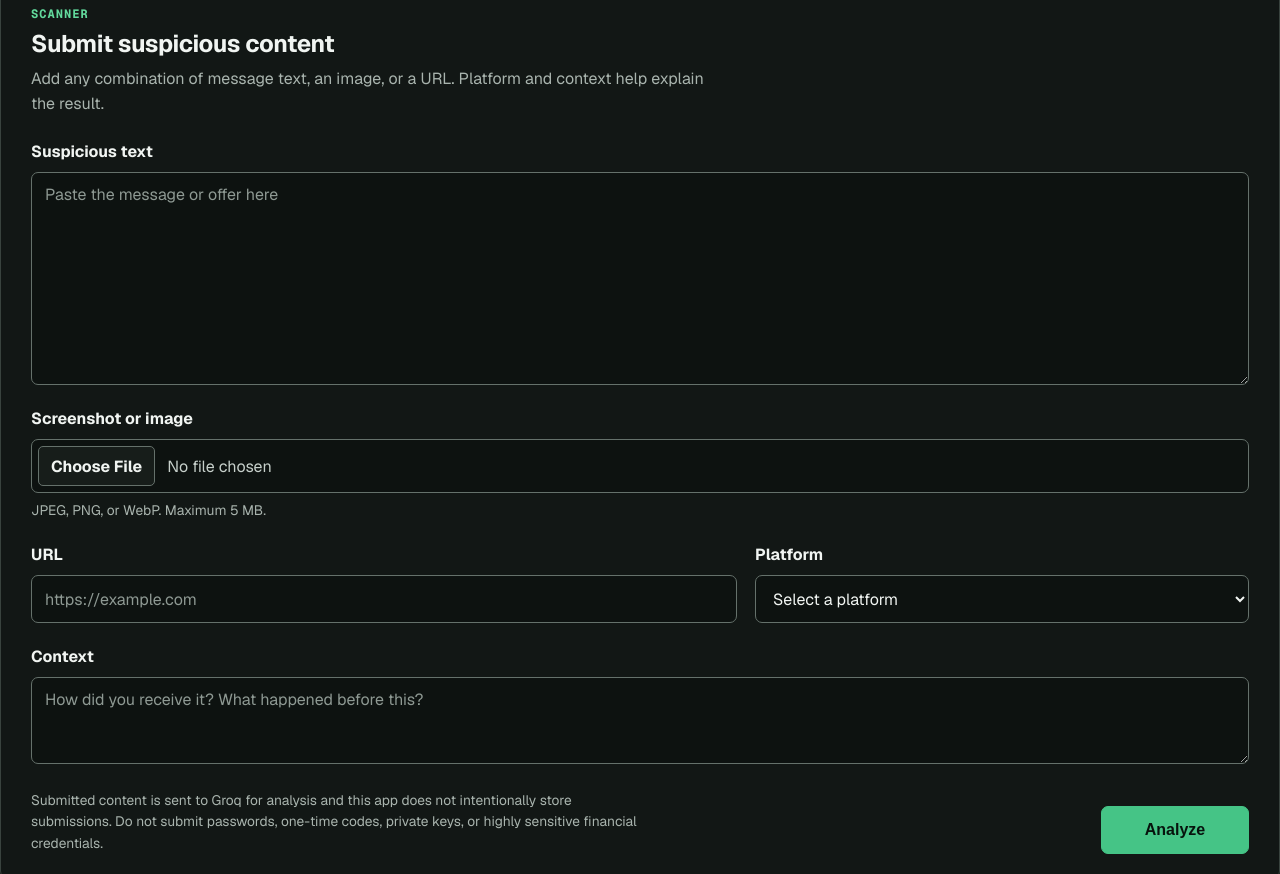
Test: AnalysisForm › removes an earlier result when a later analysis fails
In the text box labelled "Suspicious text": (640, 279) [31,172,1249,385], type "First message"
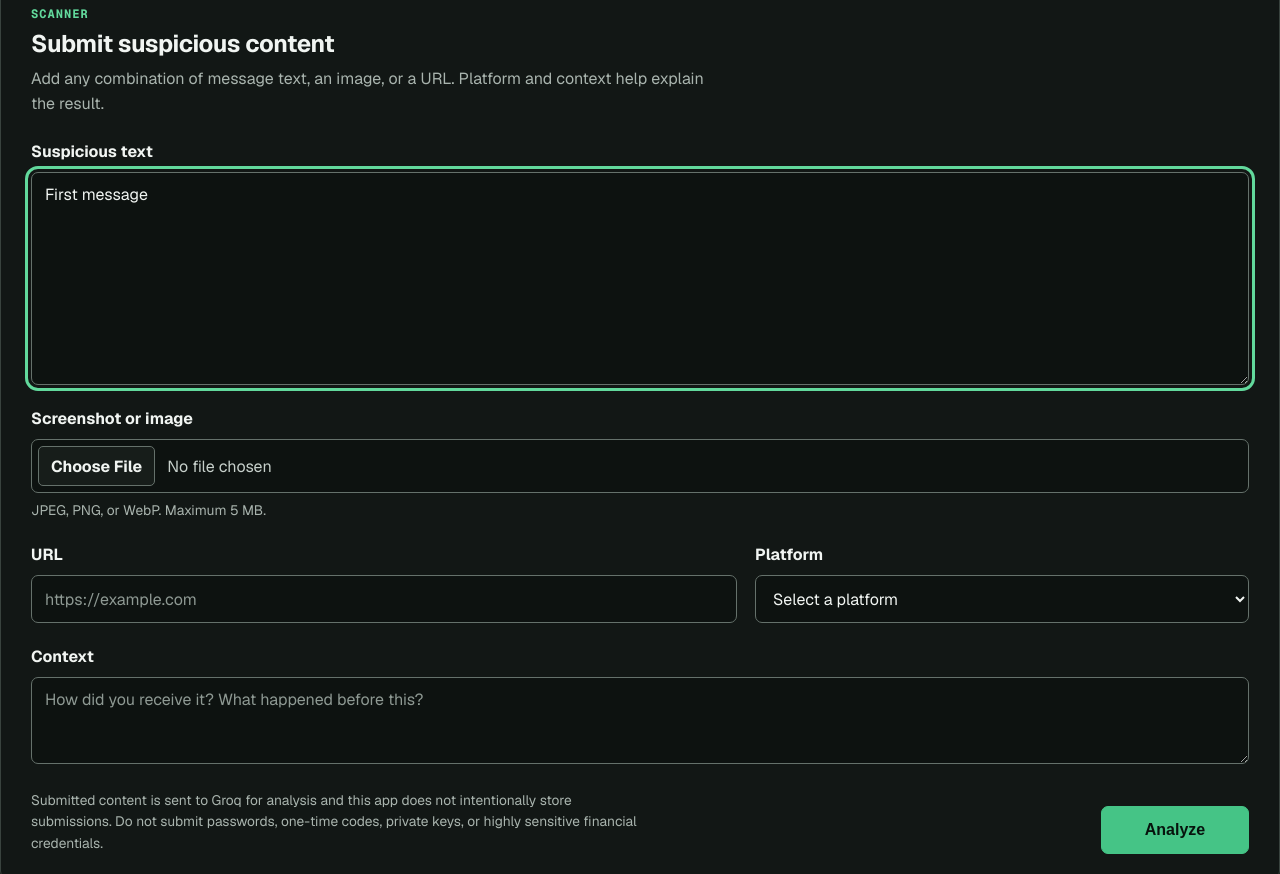
Click the button "Analyze": (1175, 830) [1101,806,1249,854]
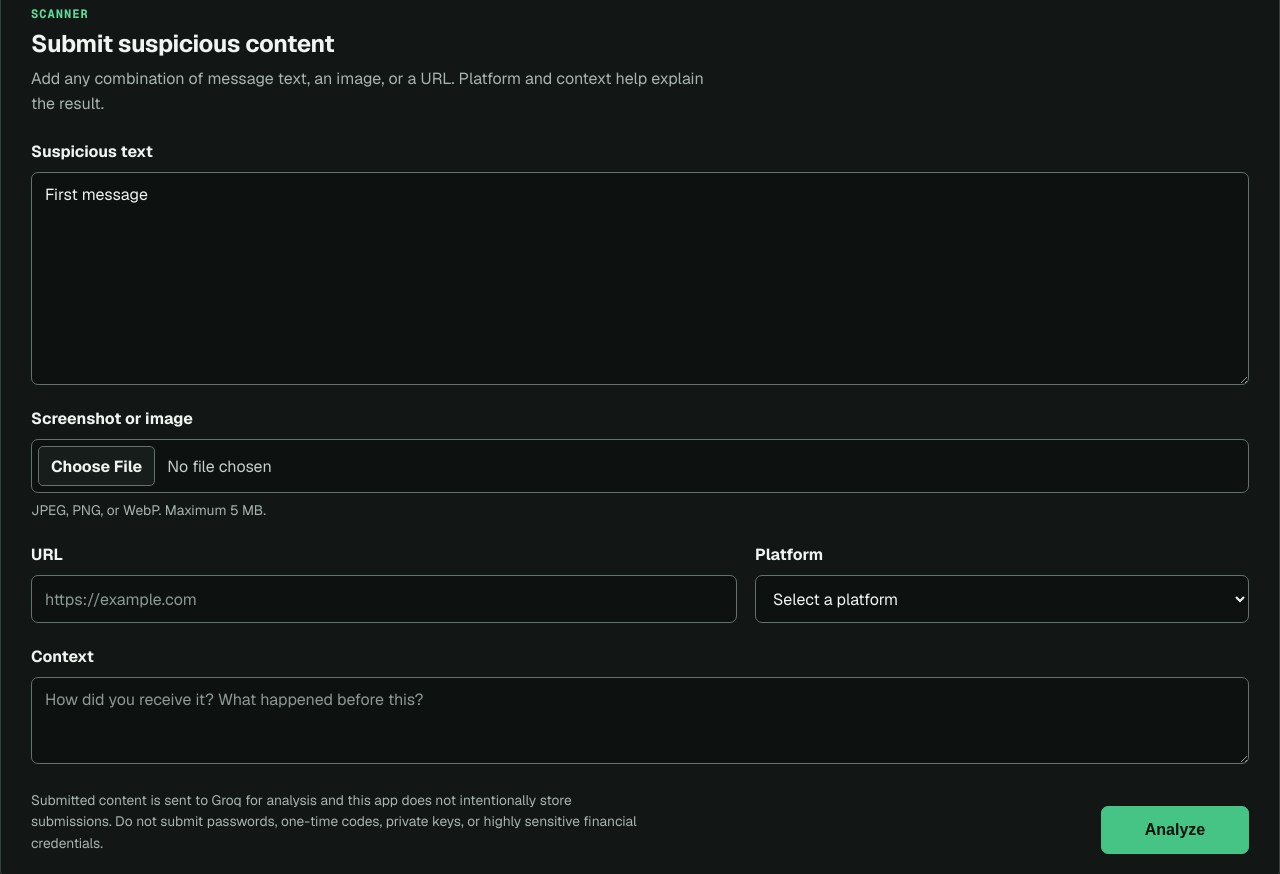
Click the button "Analyze": (1175, 830) [1101,806,1249,854]
(page scrolled)
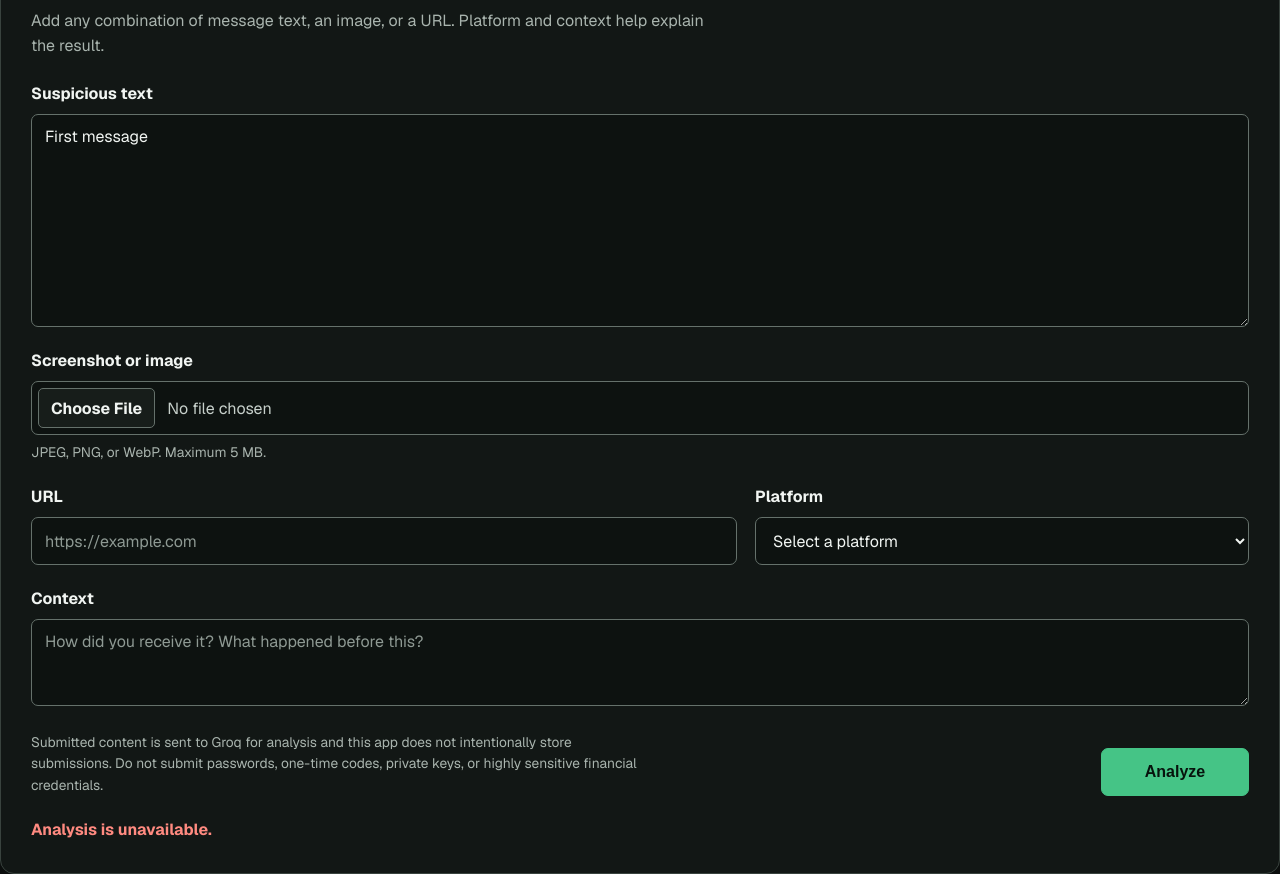
expect the message reads "Analysis is unavailable.": met, box [31,819,212,840]
